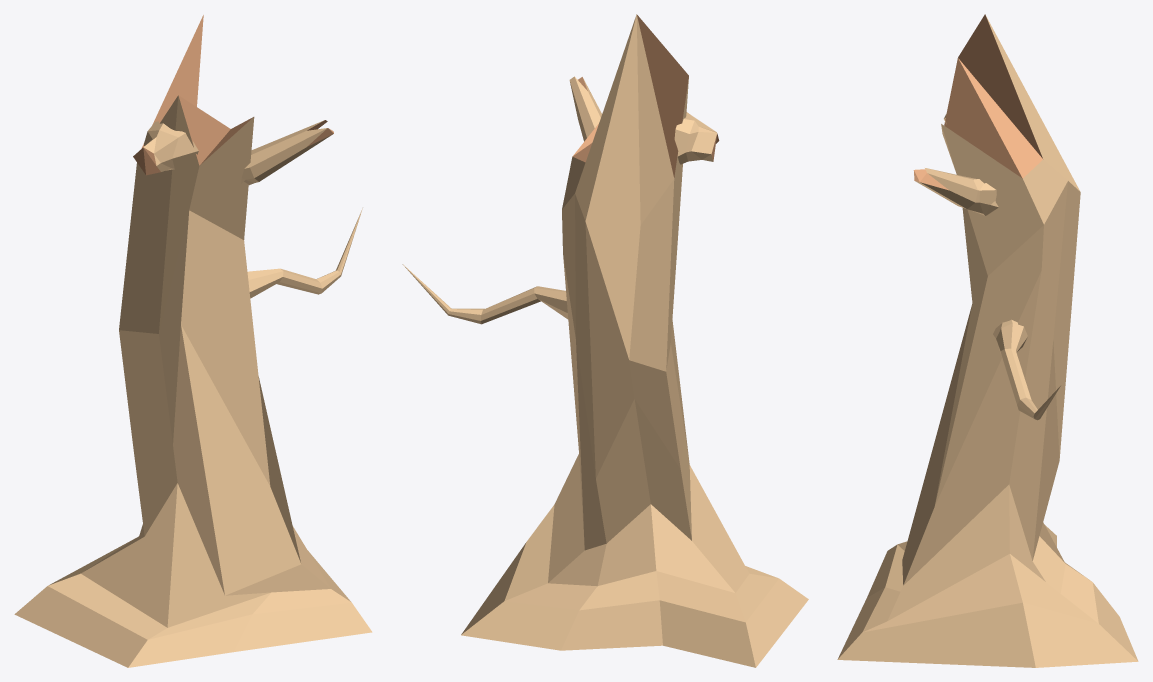
Rendered from Dead Tree 4.fbx.
3 views of the same model, side by side, from view 1: azimuth 30°, elevation 25°; view 2: azimuth 150°, elevation 25°; view 3: azimuth 270°, elevation 25° (orthographic).
Parts seen in each view (by area): view 1: Dead Tree 4; view 2: Dead Tree 4; view 3: Dead Tree 4.
Boxes of the visible parts, x1,y1,x2,y2 form: Dead Tree 4: (14, 15, 372, 667); Dead Tree 4: (402, 14, 808, 667); Dead Tree 4: (837, 14, 1138, 667).
Bounding box in the file's own units: 72.03 × 115 × 52.61.
